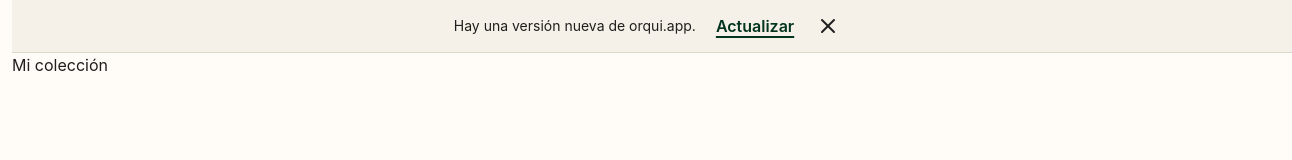
Test: UpdateNotice › «Actualizar» pide la versión nueva y lo dice mientras tanto
Click the button "Actualizar".
click(755, 26)  # box [708, 4, 802, 48]
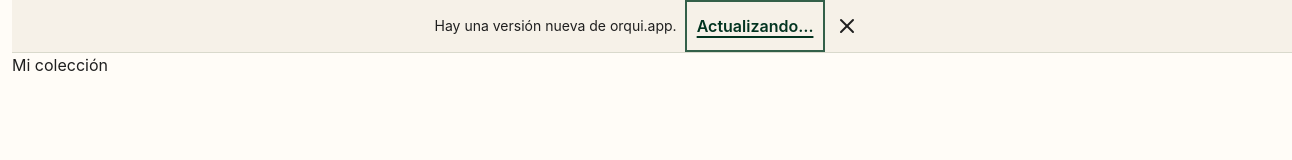
Result: the button "Actualizando…" is shown at [689, 4, 822, 48]
